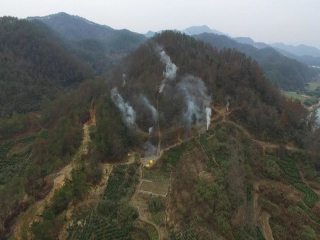smoke: (108, 45, 215, 158)
